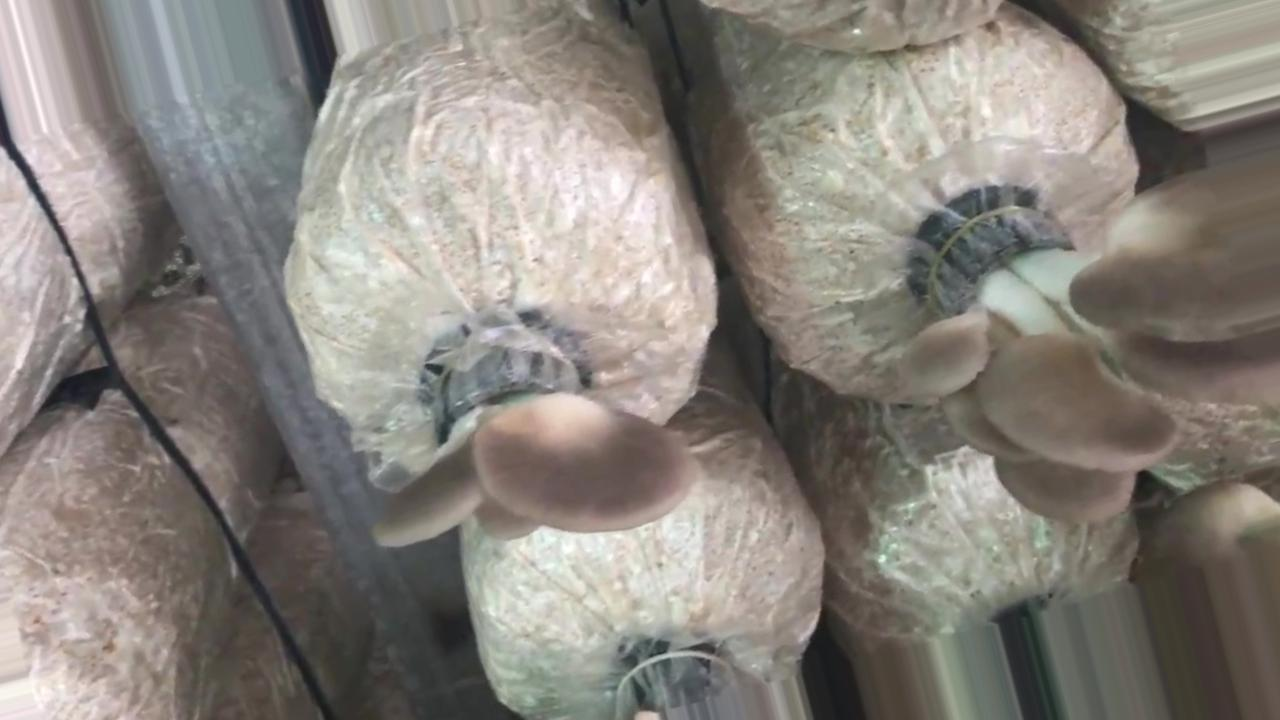nam: (892, 163, 1278, 528), (370, 335, 700, 553)
